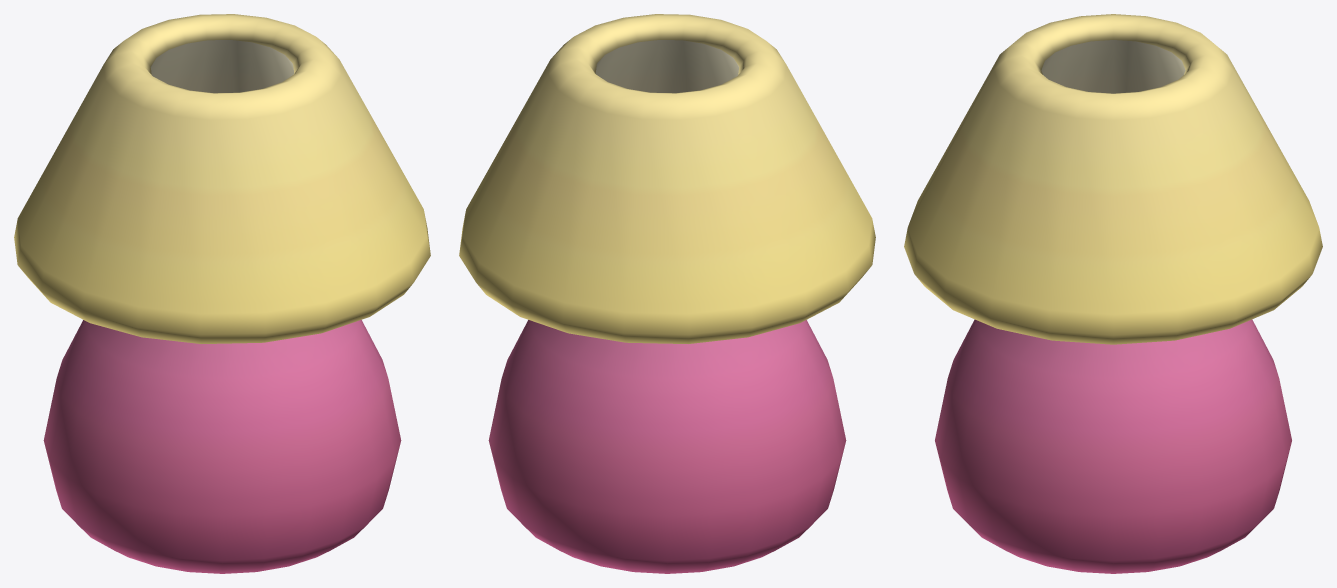
The model's file is Light_13.glb.
3 views of the same model, side by side, from view 1: azimuth 30°, elevation 25°; view 2: azimuth 150°, elevation 25°; view 3: azimuth 270°, elevation 25° (orthographic).
Parts seen in each view (by area): view 1: Light_13; view 2: Light_13; view 3: Light_13.
Boxes of the visible parts, x1,y1,x2,y2 form: Light_13: [14, 14, 430, 573]; Light_13: [459, 14, 875, 573]; Light_13: [904, 14, 1322, 573].
Size of the model in its own units: 0.1951 by 0.2404 by 0.1951.
Materials: 1 (1 with a texture image).
